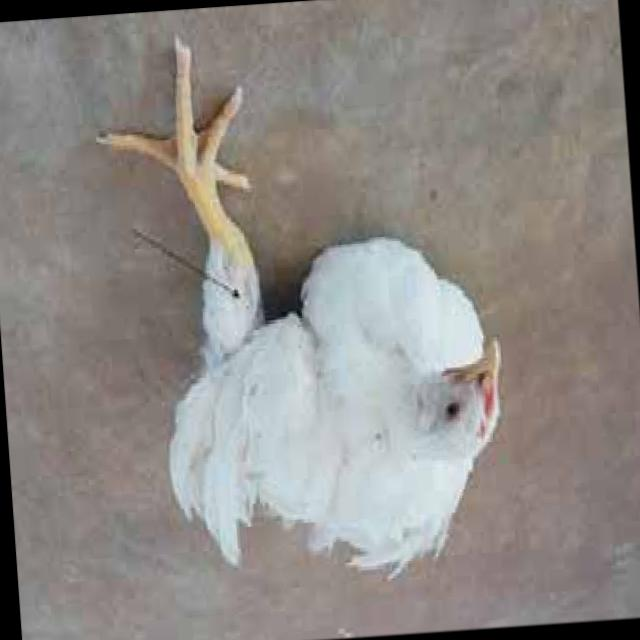abnormal chicken: (67, 4, 524, 623)
